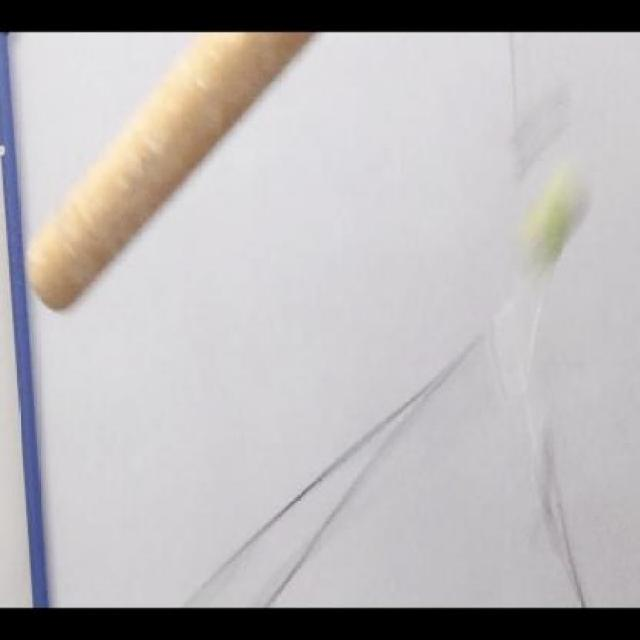baseball: (516, 158, 592, 279)
